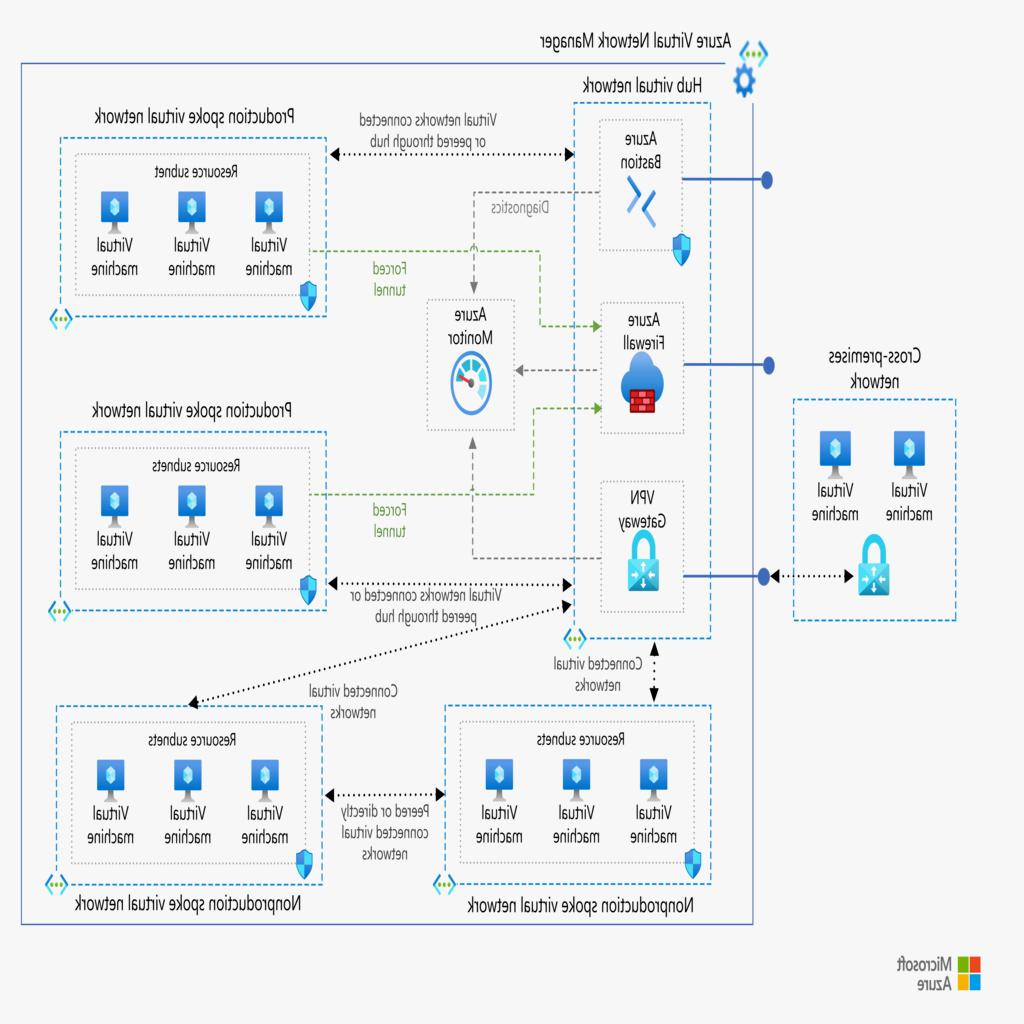compute: (428, 287, 516, 430), (885, 433, 936, 515), (811, 433, 862, 515), (246, 186, 292, 268), (170, 186, 216, 268), (92, 186, 138, 268), (246, 476, 292, 558), (170, 476, 216, 558), (92, 476, 138, 558), (632, 754, 678, 836), (556, 754, 602, 836), (479, 754, 525, 836), (246, 754, 292, 836), (170, 754, 216, 836), (92, 754, 138, 836)
data_flow: (192, 599, 576, 712), (507, 386, 574, 464), (507, 254, 574, 330), (334, 148, 570, 158), (334, 584, 570, 594), (324, 790, 450, 800), (775, 570, 857, 580), (472, 438, 478, 561), (472, 156, 478, 278)
network_security: (606, 138, 688, 240), (606, 308, 688, 410), (606, 498, 688, 600), (856, 534, 892, 594)
trust_boundary: (20, 62, 754, 924), (574, 102, 712, 640), (52, 136, 328, 316), (52, 427, 328, 607), (446, 704, 712, 884), (58, 704, 324, 884), (794, 398, 958, 622), (62, 157, 318, 296), (62, 448, 318, 586), (456, 725, 702, 864), (68, 725, 314, 864), (596, 120, 698, 258), (596, 482, 698, 616), (596, 300, 698, 433)
